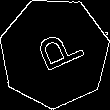P_SW: (25, 25, 84, 80)
